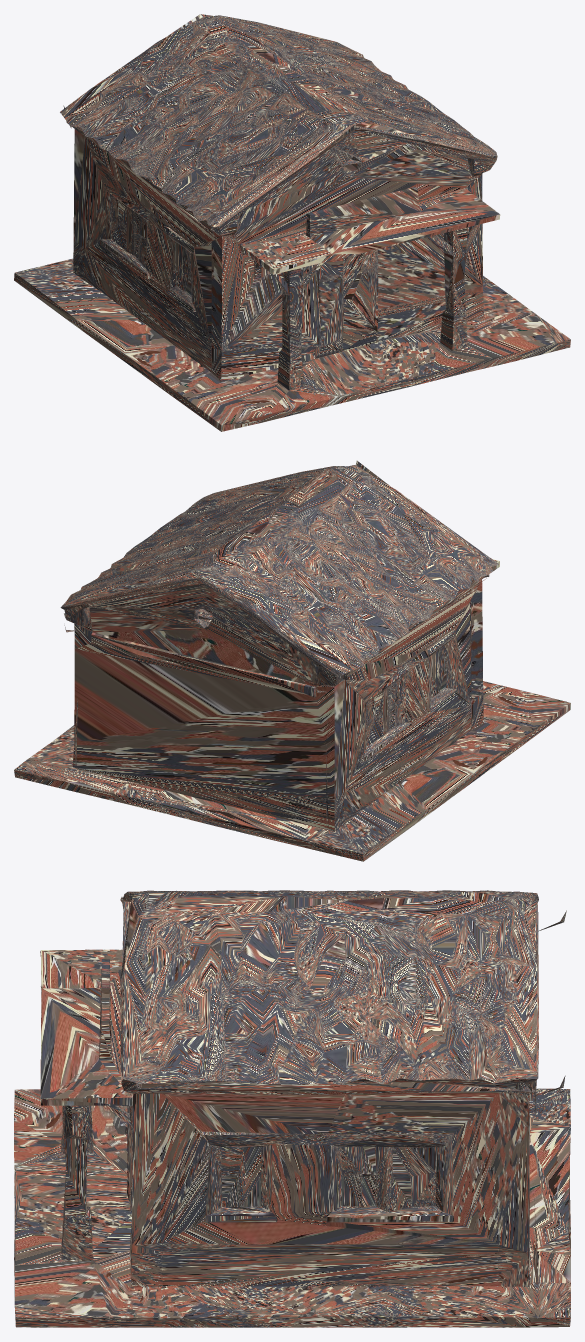
Rendered from station_wh_1.glb.
3 views of the same model, one above another, from view 1: azimuth 30°, elevation 25°; view 2: azimuth 150°, elevation 25°; view 3: azimuth 270°, elevation 25° (orthographic). The views are drawn at different scales.
Visible parts, largest first — view 1: normalize; view 2: normalize; view 3: normalize.
Part boxes in pixels (x1=…): normalize: x1=14, y1=14, x2=570, y2=431; normalize: x1=14, y1=460, x2=570, y2=861; normalize: x1=14, y1=890, x2=570, y2=1327.
Size of the model in its own units: 0.9717 by 0.6289 by 1.
Materials: 1 (1 with a texture image).
